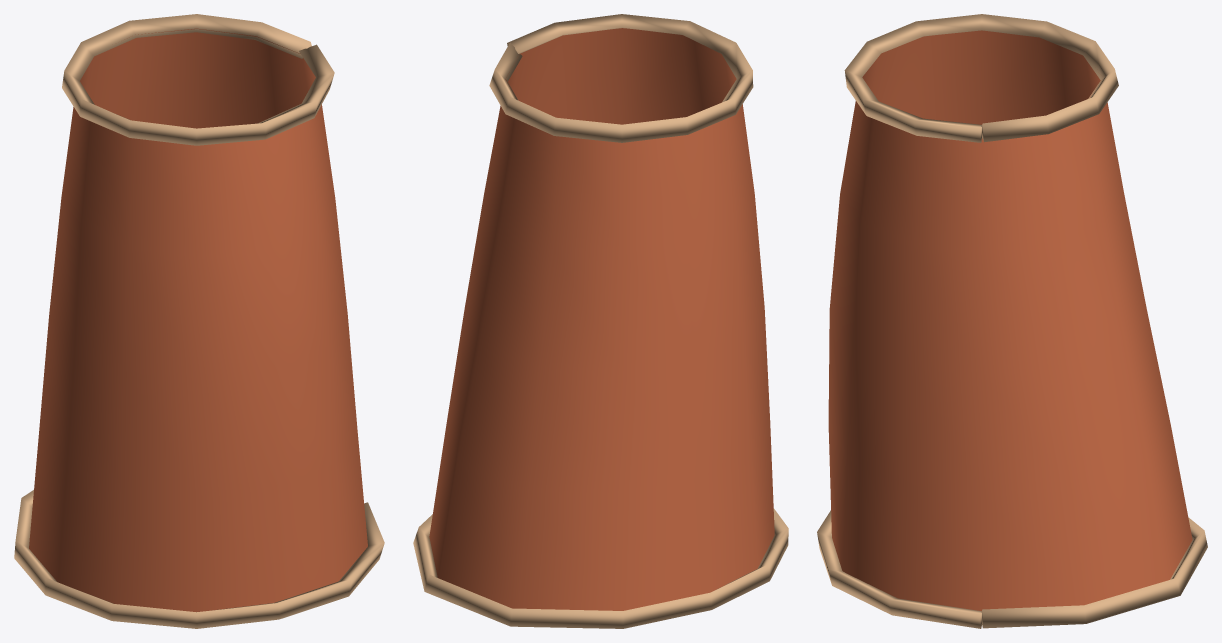
The model's file is palladium_armor_cuisse.L.glb.
The picture shows the model from 3 angles, left to right: view 1: azimuth 30°, elevation 25°; view 2: azimuth 150°, elevation 25°; view 3: azimuth 270°, elevation 25°; orthographic projection. The views are drawn at different scales.
Parts seen in each view (by area): view 1: palladium_armor_cuisse.L; view 2: palladium_armor_cuisse.L; view 3: palladium_armor_cuisse.L.
Boxes of the visible parts, x1,y1,x2,y2 form: palladium_armor_cuisse.L: (14,14,384,628); palladium_armor_cuisse.L: (413,14,788,628); palladium_armor_cuisse.L: (817,14,1207,628).
Size of the model in its own units: 0.2653 by 0.3856 by 0.284.
